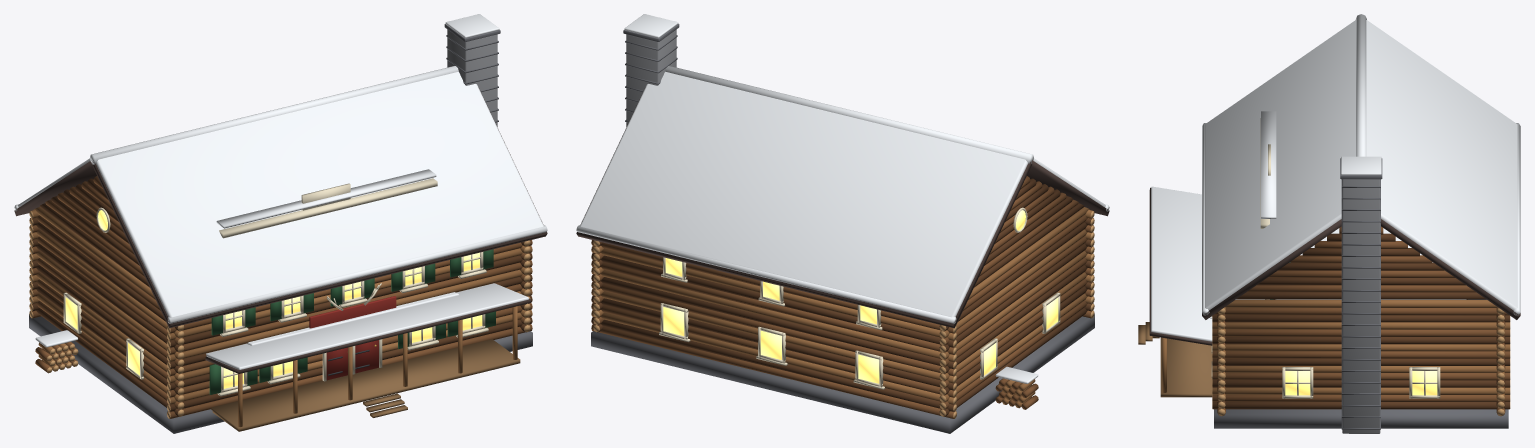
File: hearthwick.glb
3 renders of one model, left to right at view 1: azimuth 30°, elevation 25°; view 2: azimuth 150°, elevation 25°; view 3: azimuth 270°, elevation 25°, orthographic.
Parts seen in each view (by area): view 1: hw_lodge, hw_tradingpost; view 2: hw_lodge; view 3: hw_lodge, hw_tradingpost.
Part boxes in pixels (bbox=[...]): hw_lodge: bbox=[14, 14, 547, 433]; hw_tradingpost: bbox=[216, 169, 458, 345]; hw_lodge: bbox=[576, 14, 1109, 433]; hw_lodge: bbox=[1138, 14, 1520, 433]; hw_tradingpost: bbox=[1209, 111, 1467, 318].
Bounding box in the file's own units: 19.63 × 14 × 15.05.
